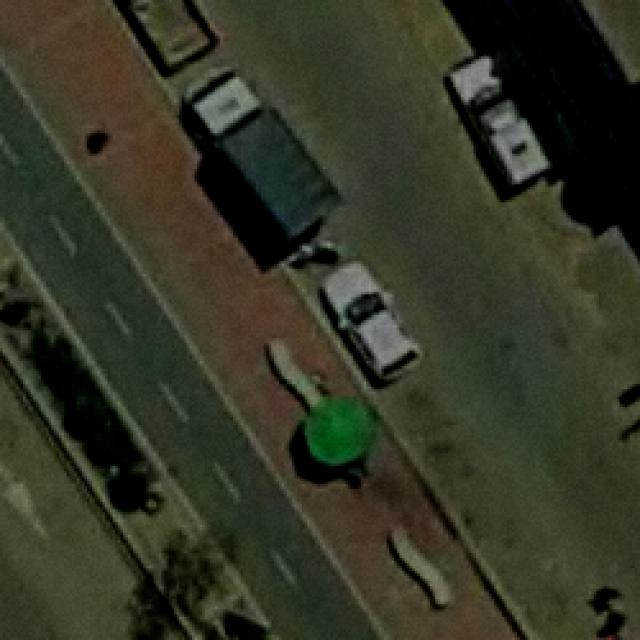vendedor_ambulante: (297, 390, 383, 476)
